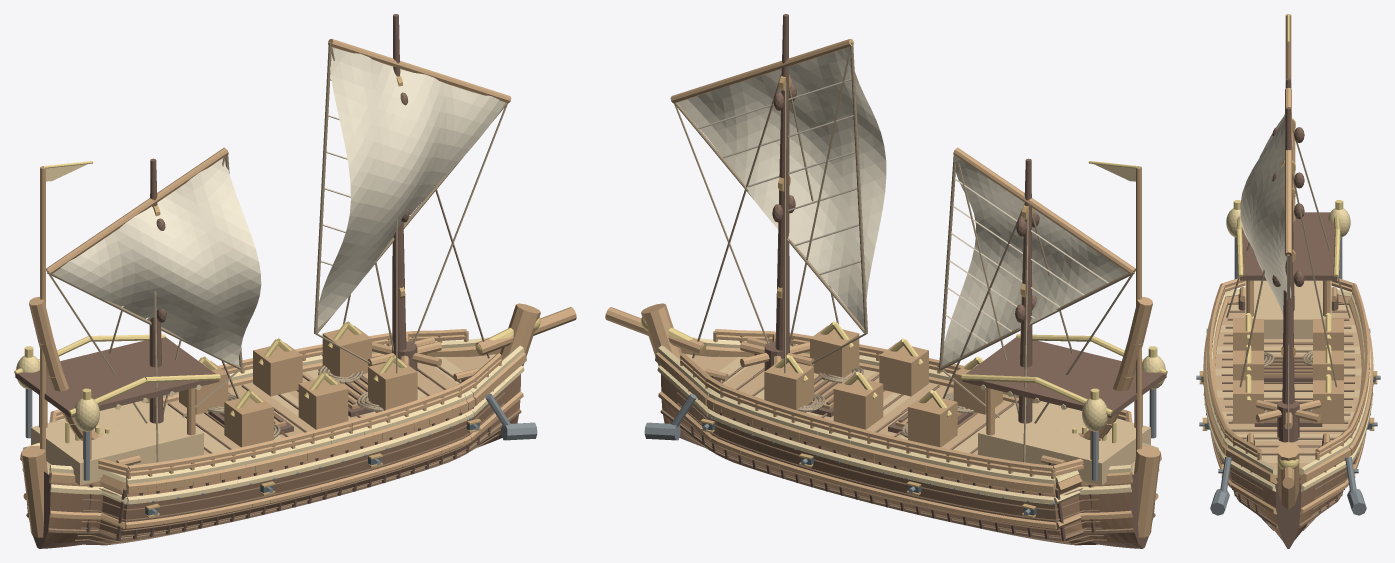
Rendered from zanzibar_dhow-v5.glb.
3 views of the same model, side by side, from view 1: azimuth 30°, elevation 25°; view 2: azimuth 150°, elevation 25°; view 3: azimuth 270°, elevation 25° (orthographic). The views are drawn at different scales.
Visible parts, largest first — view 1: zanzibar_dhow_sails_sail, zanzibar_dhow_hull_wood, zanzibar_dhow_ornament_wood, zanzibar_dhow_hull_pale, zanzibar_dhow_hull_hull, zanzibar_dhow_deck_darkwood, zanzibar_dhow_deck_decklight, zanzibar_dhow_railings_wood, zanzibar_dhow_hull_seam, zanzibar_dhow_rigging_rope, zanzibar_dhow_hull_hull2, zanzibar_dhow_masts_darkwood (+13 smaller); view 2: zanzibar_dhow_sails_sail, zanzibar_dhow_hull_wood, zanzibar_dhow_ornament_wood, zanzibar_dhow_hull_pale, zanzibar_dhow_hull_hull, zanzibar_dhow_deck_darkwood, zanzibar_dhow_deck_decklight, zanzibar_dhow_railings_wood, zanzibar_dhow_rigging_rope, zanzibar_dhow_masts_darkwood, zanzibar_dhow_hull_seam, zanzibar_dhow_hull_hull2 (+15 smaller); view 3: zanzibar_dhow_ornament_wood, zanzibar_dhow_sails_sail, zanzibar_dhow_hull_wood, zanzibar_dhow_hull_deck, zanzibar_dhow_railings_wood, zanzibar_dhow_deck_darkwood, zanzibar_dhow_hull_seam, zanzibar_dhow_hull_pale, zanzibar_dhow_deck_decklight, zanzibar_dhow_masts_darkwood, zanzibar_dhow_hull_decklight, zanzibar_dhow_fittings_wood (+19 smaller).
Boxes of the visible parts, x1=… form: zanzibar_dhow_sails_sail: x1=53, y1=47, x2=504, y2=365; zanzibar_dhow_hull_wood: x1=20, y1=303, x2=576, y2=537; zanzibar_dhow_ornament_wood: x1=29, y1=296, x2=417, y2=447; zanzibar_dhow_hull_pale: x1=22, y1=337, x2=524, y2=504; zanzibar_dhow_hull_hull: x1=44, y1=374, x2=520, y2=545; zanzibar_dhow_deck_darkwood: x1=15, y1=337, x2=219, y2=417; zanzibar_dhow_deck_decklight: x1=31, y1=401, x2=203, y2=485; zanzibar_dhow_railings_wood: x1=49, y1=329, x2=501, y2=488; zanzibar_dhow_hull_seam: x1=26, y1=366, x2=521, y2=544; zanzibar_dhow_rigging_rope: x1=47, y1=42, x2=507, y2=423; zanzibar_dhow_hull_hull2: x1=48, y1=350, x2=520, y2=537; zanzibar_dhow_masts_darkwood: x1=149, y1=14, x2=409, y2=423; zanzibar_dhow_sails_sail: x1=678, y1=46, x2=1127, y2=365; zanzibar_dhow_hull_wood: x1=605, y1=303, x2=1161, y2=537; zanzibar_dhow_ornament_wood: x1=764, y1=296, x2=1152, y2=447; zanzibar_dhow_hull_pale: x1=657, y1=337, x2=1159, y2=504; zanzibar_dhow_hull_hull: x1=661, y1=374, x2=1137, y2=545; zanzibar_dhow_deck_darkwood: x1=962, y1=337, x2=1166, y2=417; zanzibar_dhow_deck_decklight: x1=978, y1=401, x2=1150, y2=485; zanzibar_dhow_railings_wood: x1=680, y1=329, x2=1132, y2=488; zanzibar_dhow_rigging_rope: x1=674, y1=42, x2=1134, y2=423; zanzibar_dhow_masts_darkwood: x1=772, y1=14, x2=1039, y2=423; zanzibar_dhow_hull_seam: x1=660, y1=366, x2=1155, y2=544; zanzibar_dhow_hull_hull2: x1=661, y1=350, x2=1133, y2=537; zanzibar_dhow_ornament_wood: x1=1233, y1=129, x2=1343, y2=423; zanzibar_dhow_sails_sail: x1=1240, y1=114, x2=1291, y2=315; zanzibar_dhow_hull_wood: x1=1203, y1=295, x2=1373, y2=514; zanzibar_dhow_hull_deck: x1=1215, y1=310, x2=1361, y2=468; zanzibar_dhow_railings_wood: x1=1207, y1=278, x2=1369, y2=460; zanzibar_dhow_deck_darkwood: x1=1240, y1=212, x2=1336, y2=280; zanzibar_dhow_hull_seam: x1=1215, y1=302, x2=1361, y2=530; zanzibar_dhow_hull_pale: x1=1203, y1=289, x2=1373, y2=491; zanzibar_dhow_deck_decklight: x1=1245, y1=280, x2=1331, y2=338; zanzibar_dhow_masts_darkwood: x1=1272, y1=78, x2=1304, y2=404; zanzibar_dhow_hull_decklight: x1=1215, y1=304, x2=1361, y2=462; zanzibar_dhow_fittings_wood: x1=1239, y1=286, x2=1337, y2=445.
Bounding box in the file's own units: 48.97 × 38.57 × 16.18.
